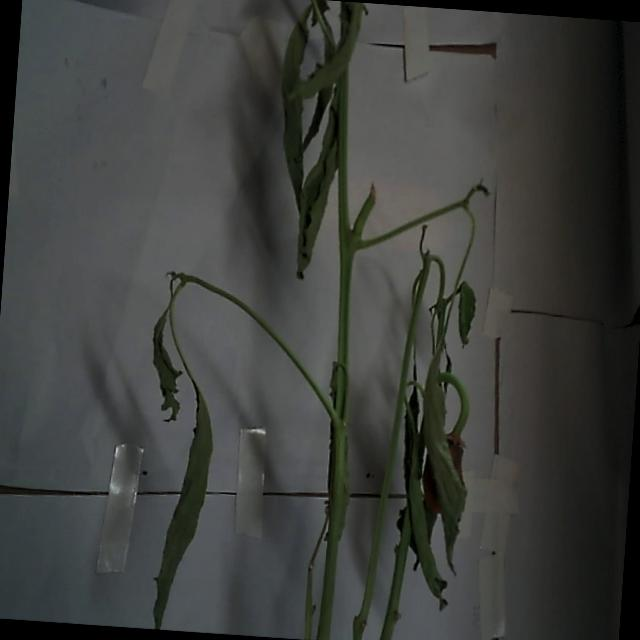Leaf: (146, 354, 217, 632), (390, 368, 465, 606), (292, 92, 342, 274), (146, 282, 188, 418)
